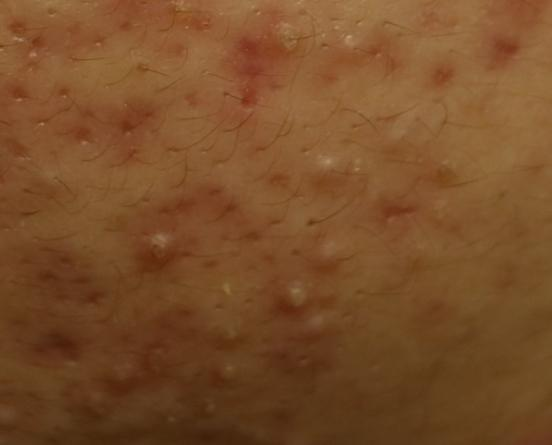cystic: (109, 363, 142, 388)
papular: (487, 21, 531, 69)
purulent: (136, 226, 185, 280), (265, 14, 320, 58), (335, 34, 370, 90), (207, 354, 251, 395), (311, 241, 351, 282), (284, 279, 318, 324), (314, 151, 346, 195), (211, 319, 252, 349)
whitehead: (12, 38, 56, 81), (426, 192, 458, 240), (214, 277, 250, 313), (340, 153, 374, 182), (159, 406, 187, 434)
